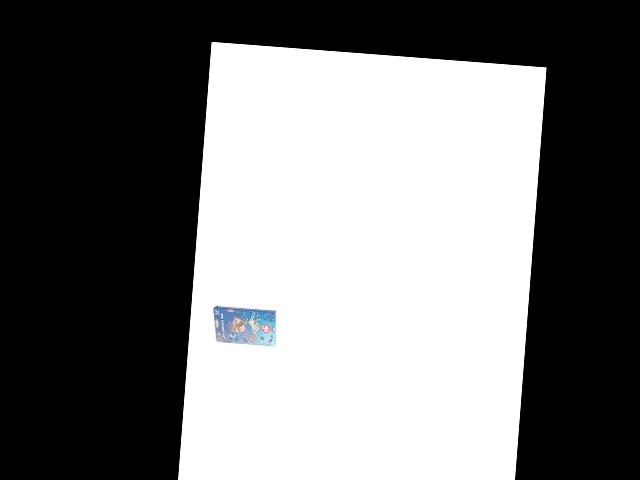chocolate: (210, 301, 279, 351)
